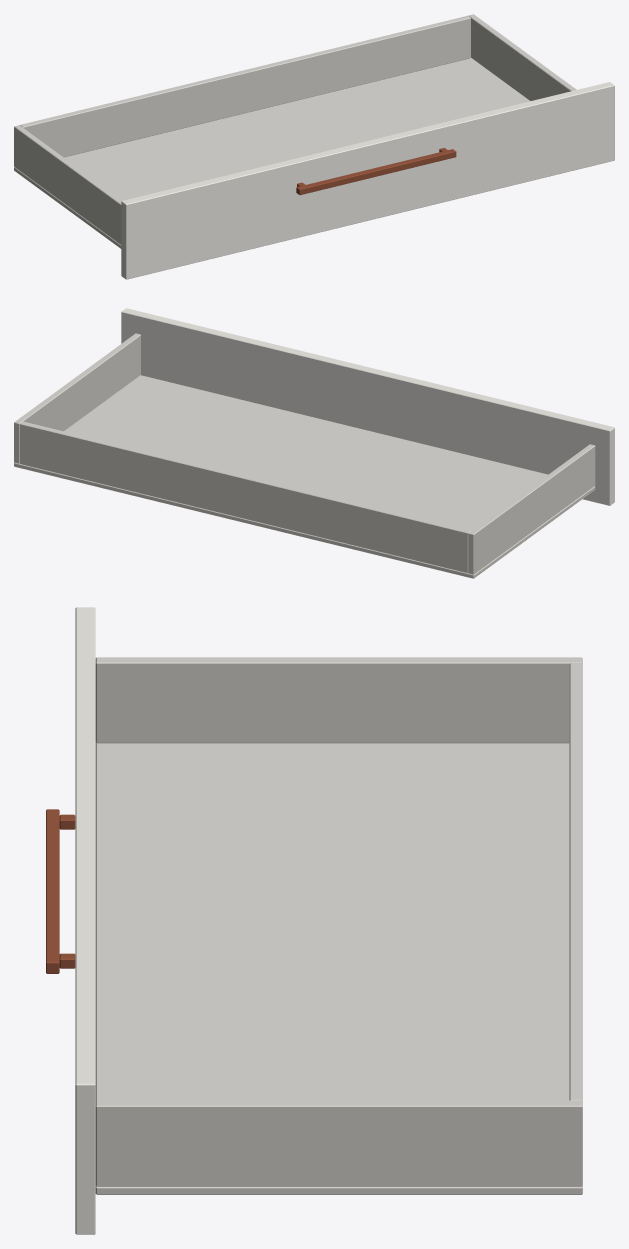
The model's file is base_cabinet_two_doors_drawer_drawer.glb.
3 views of the same model, one above another, from view 1: azimuth 30°, elevation 25°; view 2: azimuth 150°, elevation 25°; view 3: azimuth 270°, elevation 25° (orthographic). The views are drawn at different scales.
Visible parts, largest first — view 1: base_cabinet_two_doors_drawer_drawer; view 2: base_cabinet_two_doors_drawer_drawer; view 3: base_cabinet_two_doors_drawer_drawer.
Part boxes in pixels (left/top/right/bottom): base_cabinet_two_doors_drawer_drawer: left=14, top=14, right=614, bottom=279; base_cabinet_two_doors_drawer_drawer: left=14, top=308, right=614, bottom=578; base_cabinet_two_doors_drawer_drawer: left=46, top=607, right=582, bottom=1234.
Bounding box in the file's own units: 0.997 × 0.147 × 0.474.
